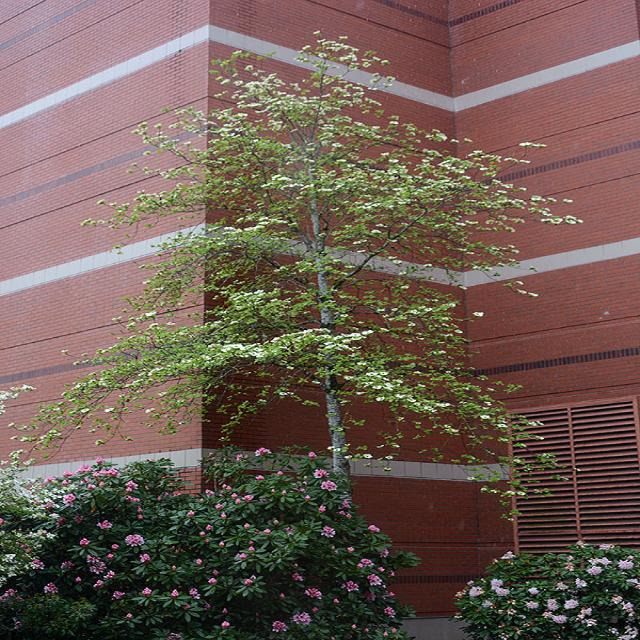Cornus nuttallii: (87, 41, 551, 586)
